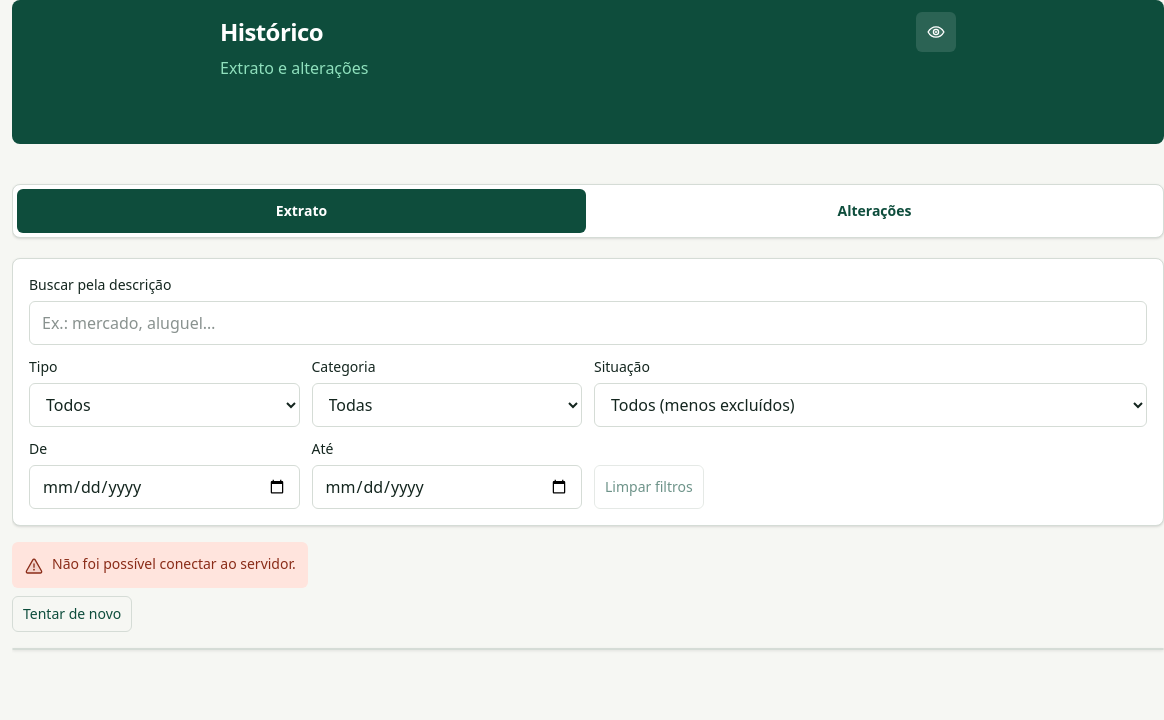
Test: Histórico: extrato › erro de carregamento tem 'Tentar de novo'; 401 expira
Expected: the message "Não foi possível conectar ao servidor." is shown, [12,542,308,588]
Click the button "Tentar de novo".
click(72, 614)  # box [12,596,132,632]
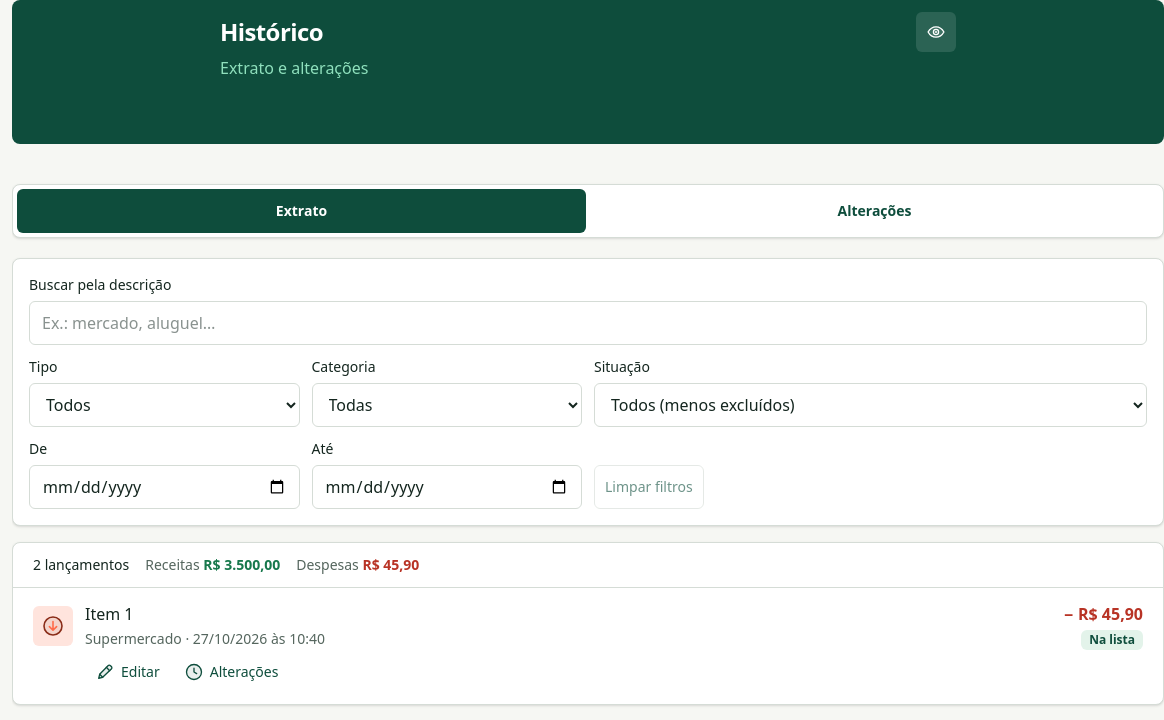
Result: the text "Item 1" is shown at [85,603,134,625]
Result: the message "Não foi possível conectar ao servidor." is gone
